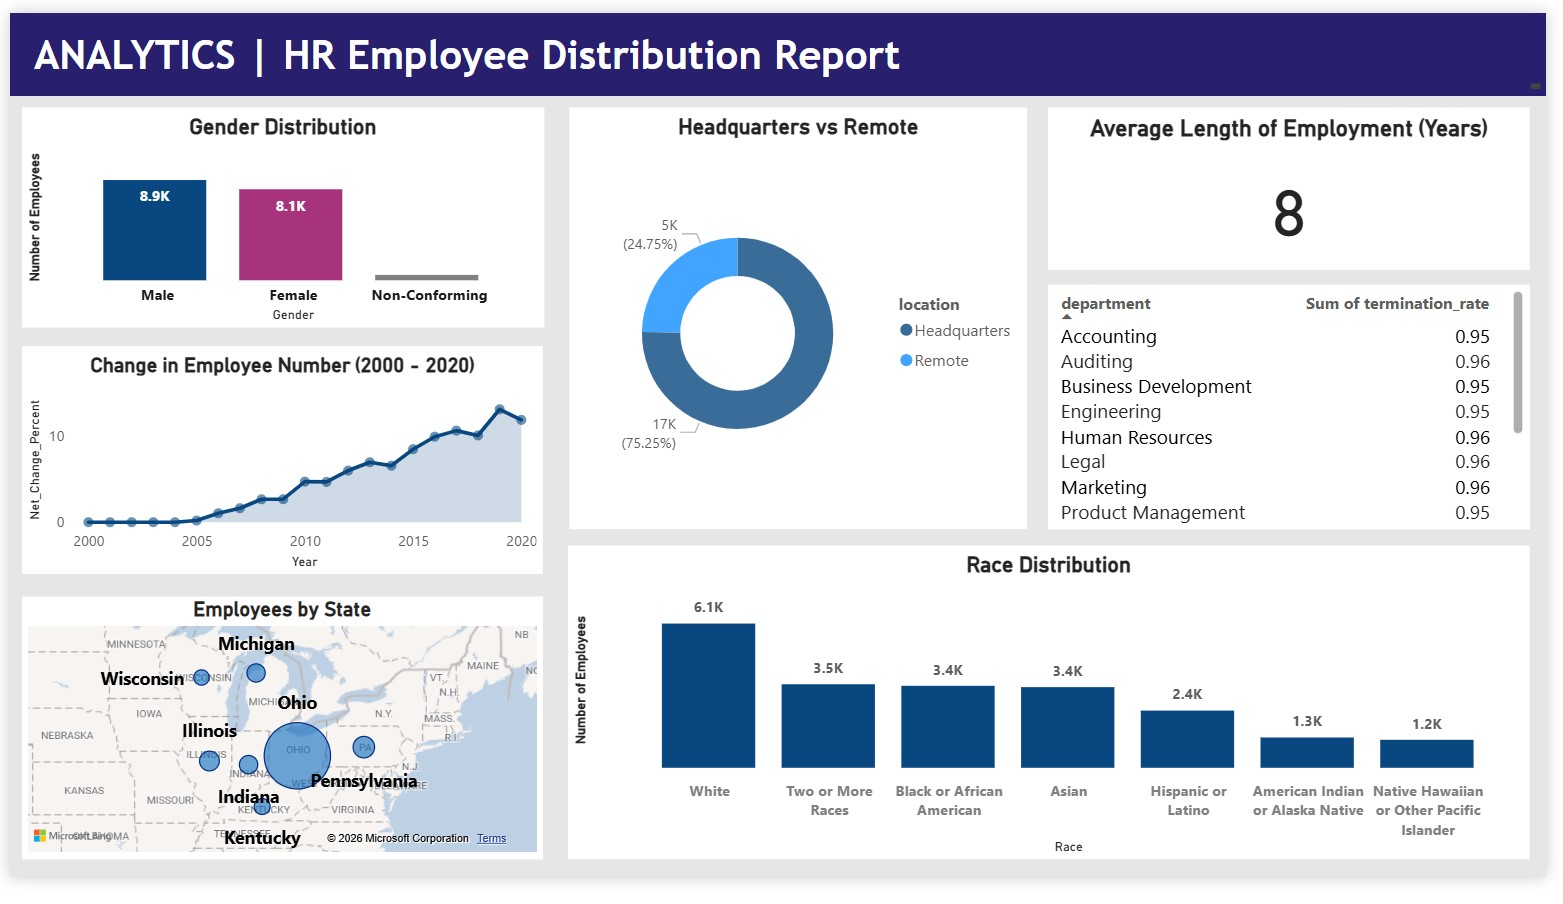

This screenshot's page, from the dashboard's own definition file:
{"tool":"powerbi","page":{"name":"Page 1","canvas":[1280,720],"ordinal":0},"visuals":[{"type":"textbox","title":"ANALYTICS | HR Employee Distribution Report","box":[0,0,1280,68.6],"z":0},{"type":"card","title":"Average Length of Employment (Years)","fields":{"Values":["Sum(avg_length_employment.avg_length_employment)"]},"box":[865,78.8,401.2,135],"z":1000},{"type":"columnChart","title":"Gender Distribution","fields":{"Category":["gender.gender"],"Y":["Sum(gender.count)"]},"box":[10,79,435,183],"z":2000},{"type":"donutChart","title":"Headquarters vs Remote","fields":{"Y":["Sum(location.count)"],"Category":["location.location"]},"box":[465.7,78.6,381.4,351.4],"z":3000},{"type":"lineChart","title":"Change in Employee Number (2000 - 2020)","fields":{"Category":["employee_change.year"],"Y":["Sum(employee_change.net_change_percent)"]},"box":[10,277.5,433.8,190],"z":4000},{"type":"map","title":"Employees by State","fields":{"Size":["Sum(state.count)"],"Category":["state.location_state"]},"box":[10,486.2,433.8,218.8],"z":5000},{"type":"clusteredColumnChart","title":"Race Distribution","fields":{"Category":["race.Race"],"Y":["Sum(race.Count)"]},"box":[465,443.8,801.2,261.2],"z":6000},{"type":"tableEx","fields":{"Values":["turnover_rate.department","Sum(turnover_rate.termination_rate)"]},"box":[865,226.2,401.2,203.8],"z":7000}]}

Visuals, with their boxes in screenshot pixels (x1, y1, x2, y2), scaled from the page's 1280x720 canvas onto the 1563x904 screenshot:
"ANALYTICS | HR Employee Distribution Report" textbox: l=0, t=0, r=1562, b=86
"Average Length of Employment (Years)" card: l=1056, t=99, r=1546, b=268
"Gender Distribution" columnChart: l=12, t=99, r=543, b=329
"Headquarters vs Remote" donutChart: l=569, t=99, r=1034, b=540
"Change in Employee Number (2000 - 2020)" lineChart: l=12, t=348, r=542, b=587
"Employees by State" map: l=12, t=610, r=542, b=885
"Race Distribution" clusteredColumnChart: l=568, t=557, r=1546, b=885
tableEx - turnover_rate.department x Sum(turnover_rate.termination_rate): l=1056, t=284, r=1546, b=540
